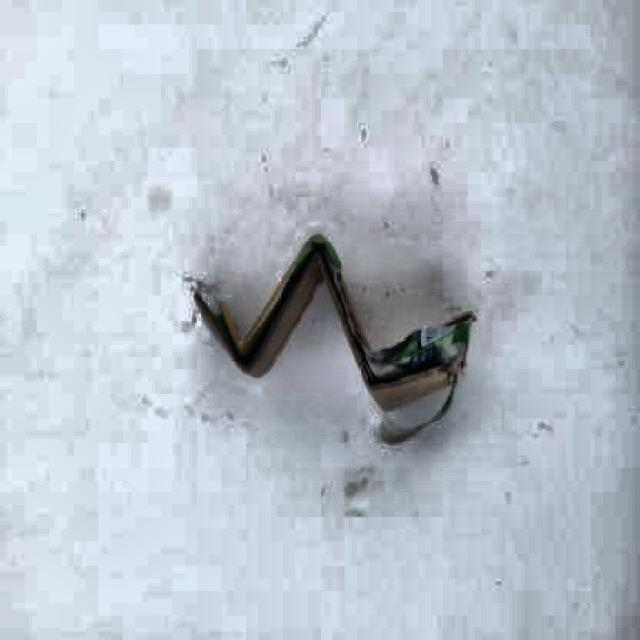Cardbox: (127, 205, 494, 470)
